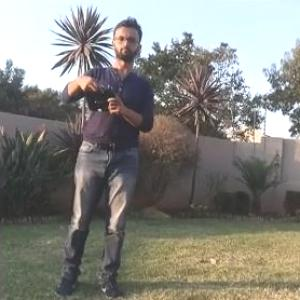follow: (48, 16, 158, 299)
